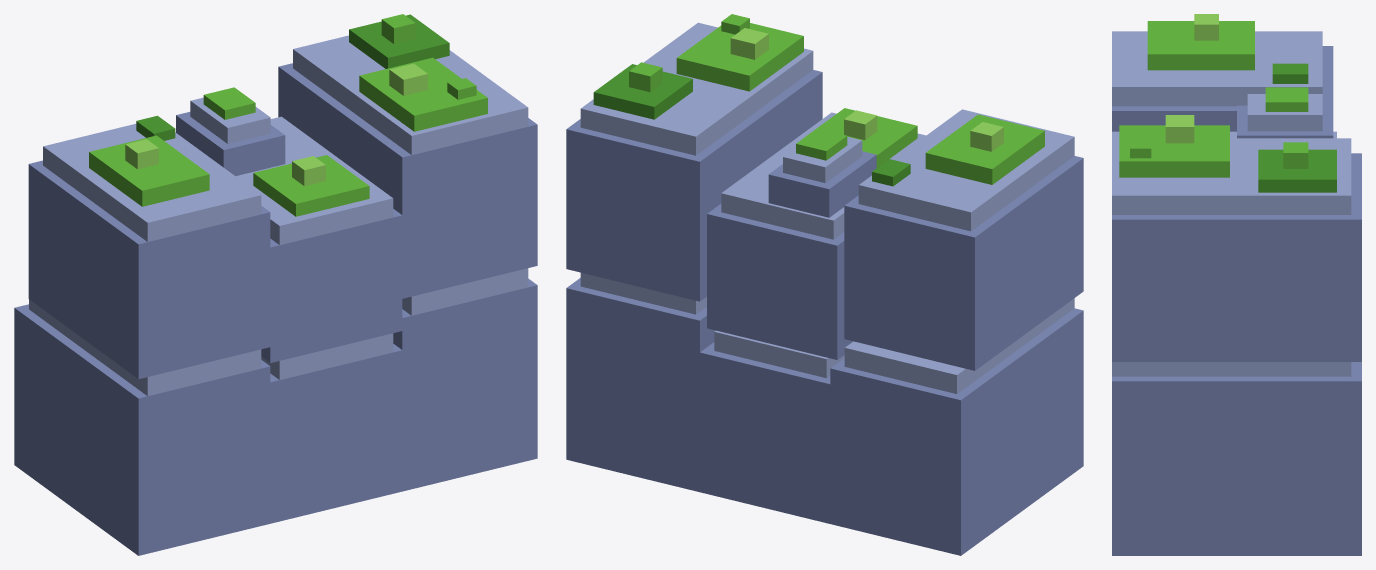
Rendered from Windswept_RimWall.glb.
3 views of the same model, side by side, from view 1: azimuth 30°, elevation 25°; view 2: azimuth 150°, elevation 25°; view 3: azimuth 270°, elevation 25° (orthographic).
Visible parts, largest first — view 1: Stone_A_Low, Stone_A_High, Stone_C_High, Stone_C_Low, Stone_B_Low, Stone_B_High, Stone_A_High_Top, Stone_C_High_Top, Stone_B_High_Top, Grass_C_1, Grass_A_1, Grass_B_1 (+12 smaller); view 2: Stone_A_Low, Stone_A_High, Stone_C_High, Stone_C_Low, Stone_B_Low, Stone_B_High, Stone_A_High_Top, Stone_C_High_Top, Grass_C_1, Grass_A_1, Stone_A_Low_Top, Stone_B_High_Top (+12 smaller); view 3: Stone_C_Low, Stone_C_High, Stone_C_High_Top, Stone_A_High_Top, Grass_C_1, Grass_A_1, Stone_C_Low_Top, Stone_A_High, Grass_C_4, Stone_B_Crown_Top, Stone_B_Crown, Grass_B_3 (+5 smaller).
Boxes of the visible parts, x1,y1,x2,y2 form: Stone_A_Low: (14, 304, 270, 555); Stone_A_High: (28, 160, 270, 379); Stone_C_High: (278, 63, 537, 298); Stone_C_Low: (393, 278, 537, 491); Stone_B_Low: (270, 344, 402, 523); Stone_B_High: (261, 209, 402, 362); Stone_A_High_Top: (43, 123, 261, 241); Stone_C_High_Top: (293, 35, 528, 154); Stone_B_High_Top: (236, 116, 393, 244); Grass_C_1: (359, 57, 487, 131); Grass_A_1: (89, 135, 209, 206); Grass_B_1: (253, 155, 369, 216); Stone_A_Low: (830, 308, 1083, 555); Stone_A_High: (844, 156, 1083, 370); Stone_C_High: (566, 70, 822, 301); Stone_C_Low: (566, 278, 715, 492); Stone_B_Low: (700, 342, 830, 523); Stone_B_High: (707, 203, 852, 359); Stone_A_High_Top: (858, 109, 1074, 231); Stone_C_High_Top: (580, 22, 813, 155); Grass_C_1: (676, 23, 803, 91); Grass_A_1: (925, 114, 1044, 184); Stone_A_Low_Top: (844, 298, 1074, 393); Stone_B_High_Top: (721, 112, 925, 239); Stone_C_Low: (1112, 362, 1361, 555); Stone_C_High: (1112, 153, 1361, 361); Stone_C_High_Top: (1112, 138, 1351, 214); Stone_A_High_Top: (1112, 31, 1322, 106); Grass_C_1: (1119, 125, 1229, 177); Grass_A_1: (1147, 21, 1254, 70); Stone_C_Low_Top: (1112, 362, 1351, 376); Stone_A_High: (1112, 46, 1333, 131); Grass_C_4: (1258, 149, 1336, 192); Stone_B_Crown_Top: (1247, 94, 1322, 131); Stone_B_Crown: (1237, 105, 1333, 138); Grass_B_3: (1265, 87, 1308, 111).
Bounding box in the file's own units: 1.3 × 1.2 × 0.7.
